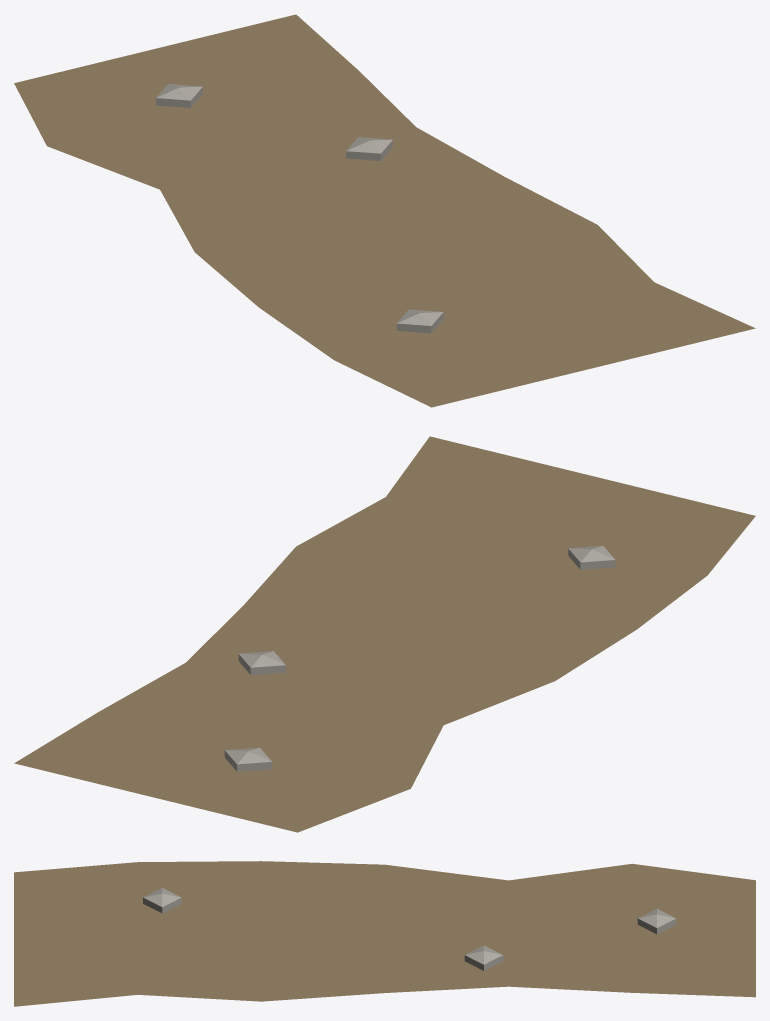
The model's file is footpath.glb.
3 views of the same model, one above another, from view 1: azimuth 30°, elevation 25°; view 2: azimuth 150°, elevation 25°; view 3: azimuth 270°, elevation 25° (orthographic). The views are drawn at different scales.
Parts seen in each view (by area): view 1: footpath; view 2: footpath; view 3: footpath.
Boxes of the visible parts, x1,y1,x2,y2 form: footpath: (14, 14, 755, 407); footpath: (14, 436, 755, 832); footpath: (14, 861, 755, 1006).
Size of the model in its own units: 1.39 by 0.072 by 3.
